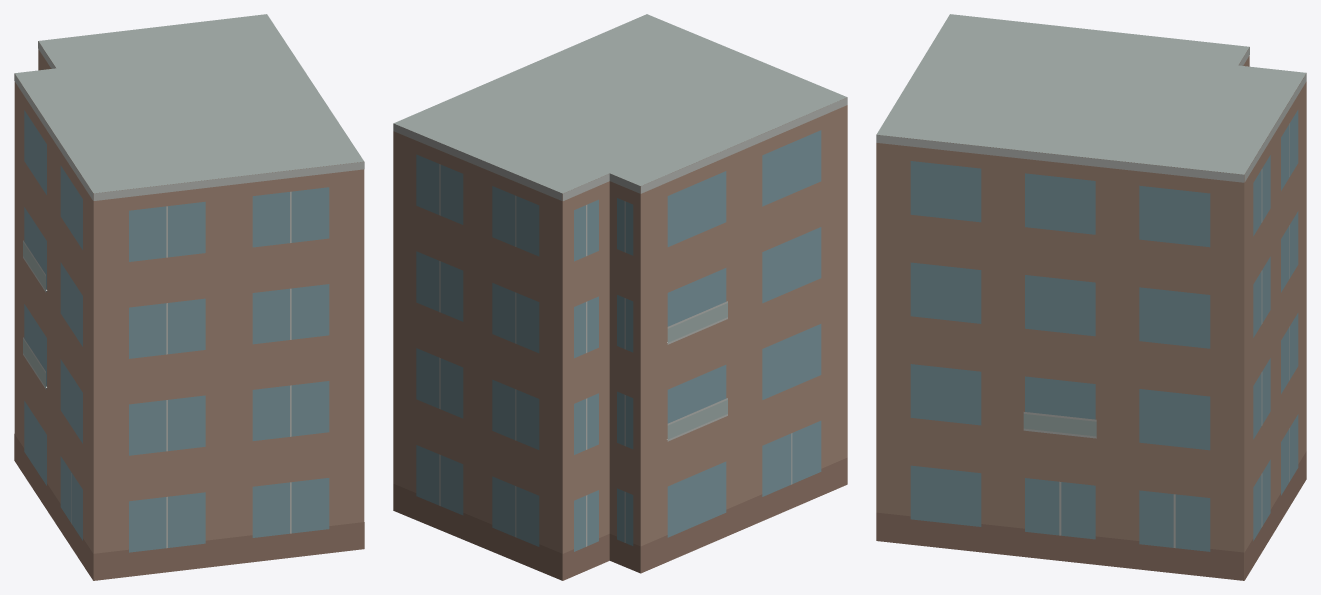
The model's file is residential-a2bec93a-63eb-4608-b004-684edf728bc2.glb.
3 renders of one model, left to right at view 1: azimuth 30°, elevation 25°; view 2: azimuth 150°, elevation 25°; view 3: azimuth 270°, elevation 25°, orthographic. The views are drawn at different scales.
Visible parts, largest first — view 1: residential-a2bec93a-63eb-4608-b004-684edf728bc2.tmp; view 2: residential-a2bec93a-63eb-4608-b004-684edf728bc2.tmp; view 3: residential-a2bec93a-63eb-4608-b004-684edf728bc2.tmp.
Boxes of the visible parts, x1,y1,x2,y2 form: residential-a2bec93a-63eb-4608-b004-684edf728bc2.tmp: (14,14,364,580); residential-a2bec93a-63eb-4608-b004-684edf728bc2.tmp: (393,14,847,580); residential-a2bec93a-63eb-4608-b004-684edf728bc2.tmp: (876,14,1306,580).
Bounding box in the file's own units: 10.36 × 12.2 × 11.72.
